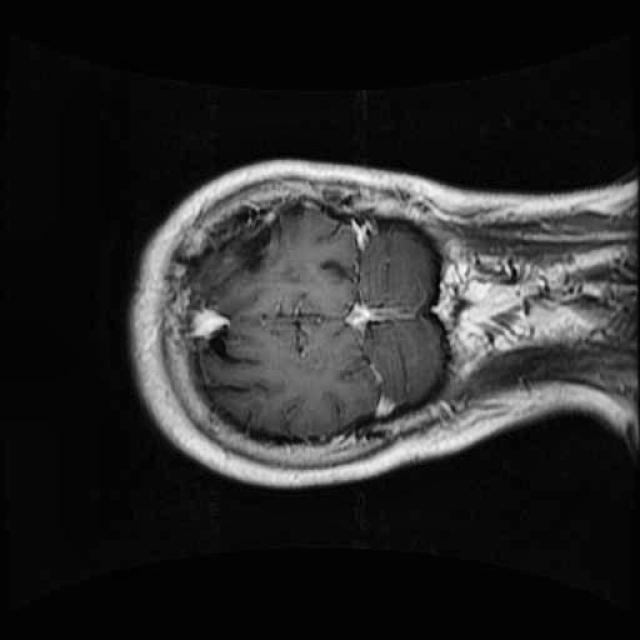Non-Tumor: (216, 216, 282, 279)
